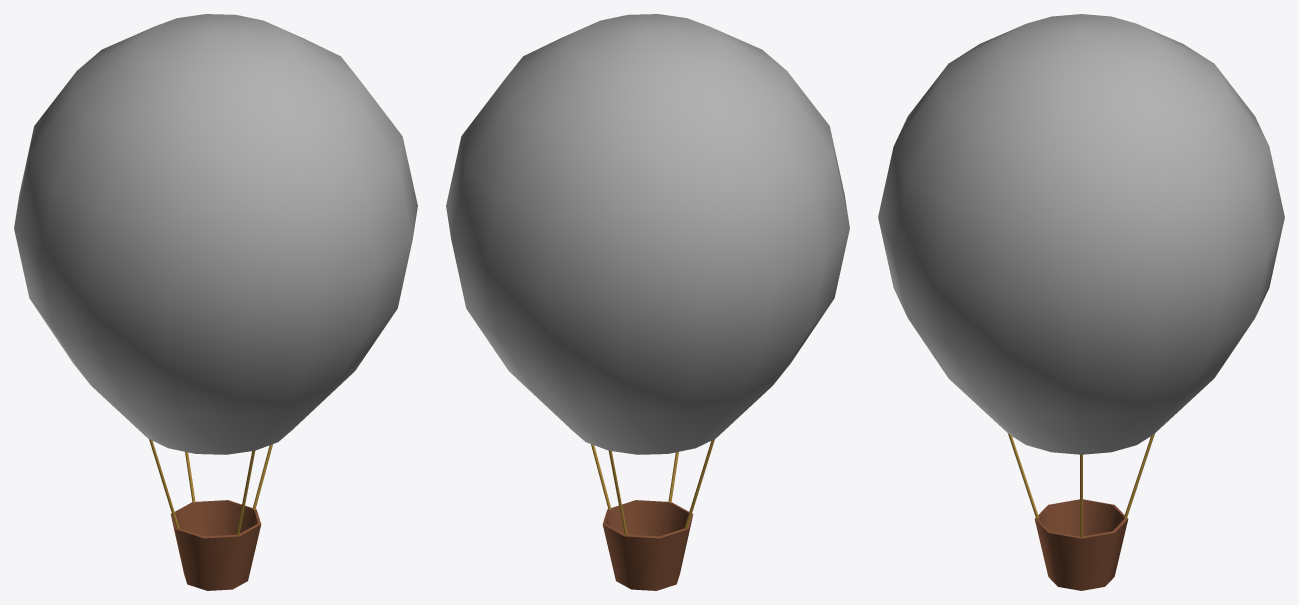
Rendered from FB_Beginner.FBX.
3 views of the same model, side by side, from view 1: azimuth 30°, elevation 25°; view 2: azimuth 150°, elevation 25°; view 3: azimuth 270°, elevation 25° (orthographic).
Parts seen in each view (by area): view 1: Sphere001, Cylinder001, Line003; view 2: Sphere001, Cylinder001, Line003; view 3: Sphere001, Cylinder001, Line003.
Boxes of the visible parts, left/top/right/bottom form: Sphere001: left=14, top=14, right=417, bottom=454; Cylinder001: left=170, top=500, right=261, bottom=590; Line003: left=149, top=439, right=272, bottom=535; Sphere001: left=446, top=14, right=849, bottom=454; Cylinder001: left=602, top=500, right=693, bottom=590; Line003: left=591, top=439, right=714, bottom=535; Sphere001: left=878, top=14, right=1284, bottom=454; Cylinder001: left=1034, top=499, right=1128, bottom=590; Line003: left=1008, top=434, right=1154, bottom=537.
Size of the model in its own units: 130 by 192 by 130.
